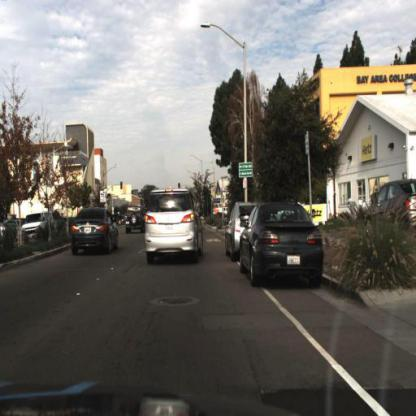car: (241, 201, 327, 289), (137, 177, 206, 270), (144, 191, 208, 264), (69, 205, 120, 261), (366, 180, 416, 226), (226, 204, 255, 269), (278, 198, 319, 236), (21, 212, 55, 246), (124, 205, 146, 238)
